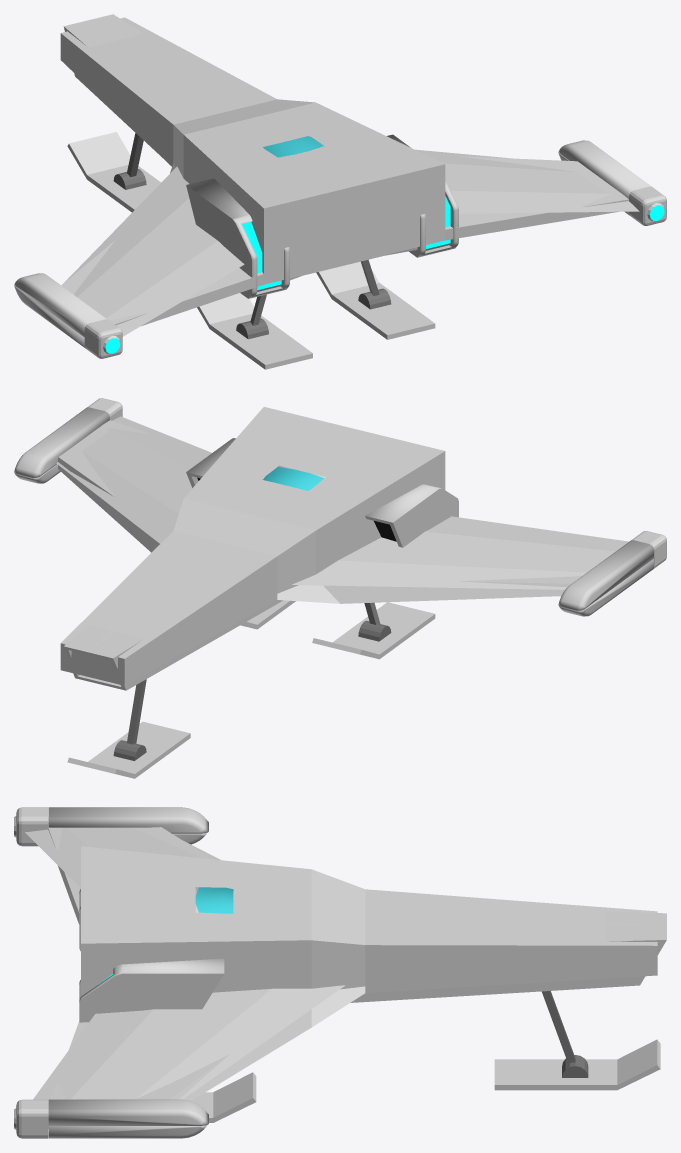
The model's file is PlayerShip.fbx.
3 renders of one model, top to bottom at view 1: azimuth 30°, elevation 25°; view 2: azimuth 150°, elevation 25°; view 3: azimuth 270°, elevation 25°, orthographic. The views are drawn at different scales.
Visible parts, largest first — view 1: Layout, Wing, LandingGear, Engine Block, Body, Wing End.L.Top, Wing End.R.Top, Wing End.L.Bottom; view 2: Layout, Wing, LandingGear, Engine Block, Body, Wing End.L.Top, Wing End.R.Top, Wing End.L.Bottom; view 3: Layout, Wing, LandingGear, Engine Block, Body, Wing End.R.Top, Wing End.L.Top, Wing End.R.Bottom.
Part boxes in pixels (left/top/right/bottom): Layout: left=60, top=17, right=628, bottom=326; Wing: left=62, top=149, right=666, bottom=358; LandingGear: left=67, top=132, right=435, bottom=369; Engine Block: left=186, top=134, right=458, bottom=298; Body: left=63, top=14, right=417, bottom=280; Wing End.L.Top: left=14, top=273, right=106, bottom=337; Wing End.R.Top: left=558, top=140, right=651, bottom=198; Wing End.L.Bottom: left=14, top=286, right=85, bottom=348; Layout: left=58, top=407, right=622, bottom=685; Wing: left=56, top=398, right=666, bottom=589; LandingGear: left=67, top=600, right=435, bottom=778; Engine Block: left=186, top=438, right=458, bottom=547; Body: left=64, top=465, right=325, bottom=690; Wing End.L.Top: left=558, top=540, right=653, bottom=610; Wing End.R.Top: left=14, top=407, right=109, bottom=477; Wing End.L.Bottom: left=559, top=559, right=653, bottom=616; Layout: left=48, top=824, right=657, bottom=1108; Wing: left=14, top=807, right=345, bottom=1138; LandingGear: left=191, top=991, right=660, bottom=1122; Engine Block: left=79, top=889, right=224, bottom=1022; Body: left=195, top=887, right=666, bottom=1002; Wing End.R.Top: left=48, top=1099, right=208, bottom=1125; Wing End.L.Top: left=48, top=807, right=208, bottom=833; Wing End.R.Bottom: left=48, top=1125, right=207, bottom=1138.
Size of the model in its own units: 628 by 175 by 566.
